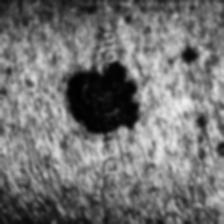Potentially Malignant Skin Tumors: (67, 62, 139, 134)
